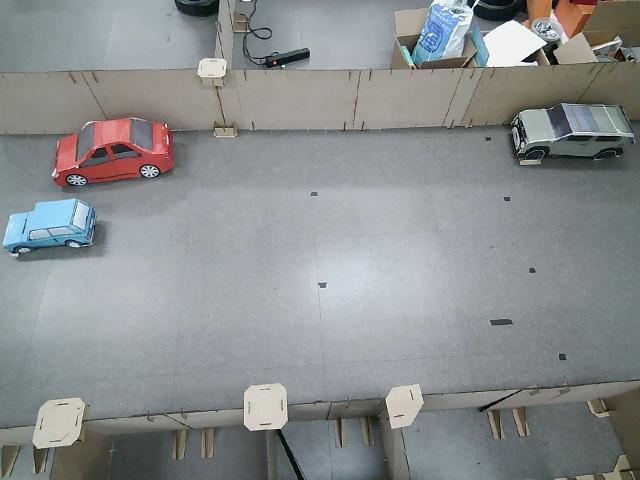car: (53, 117, 175, 186), (509, 103, 636, 162), (3, 199, 97, 253)
